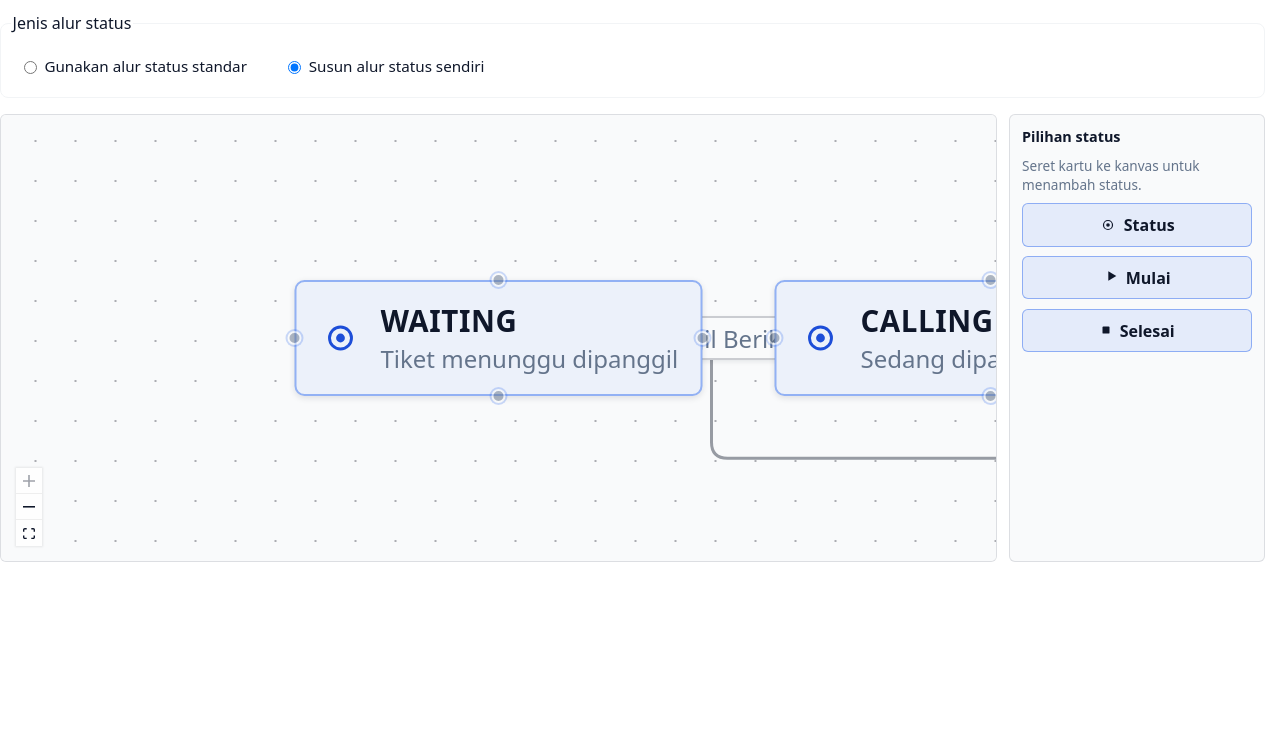
Scenario: StateMachineWorkflow (visual React Flow builder) › the panel back button clears selection and returns to the node picker
The width and height of the screenshot is (1280, 732).
Click the element showing "CALLING Sedang dipanggil ke counter": {"x": 991, "y": 338} x1=774 y1=280 x2=1208 y2=397
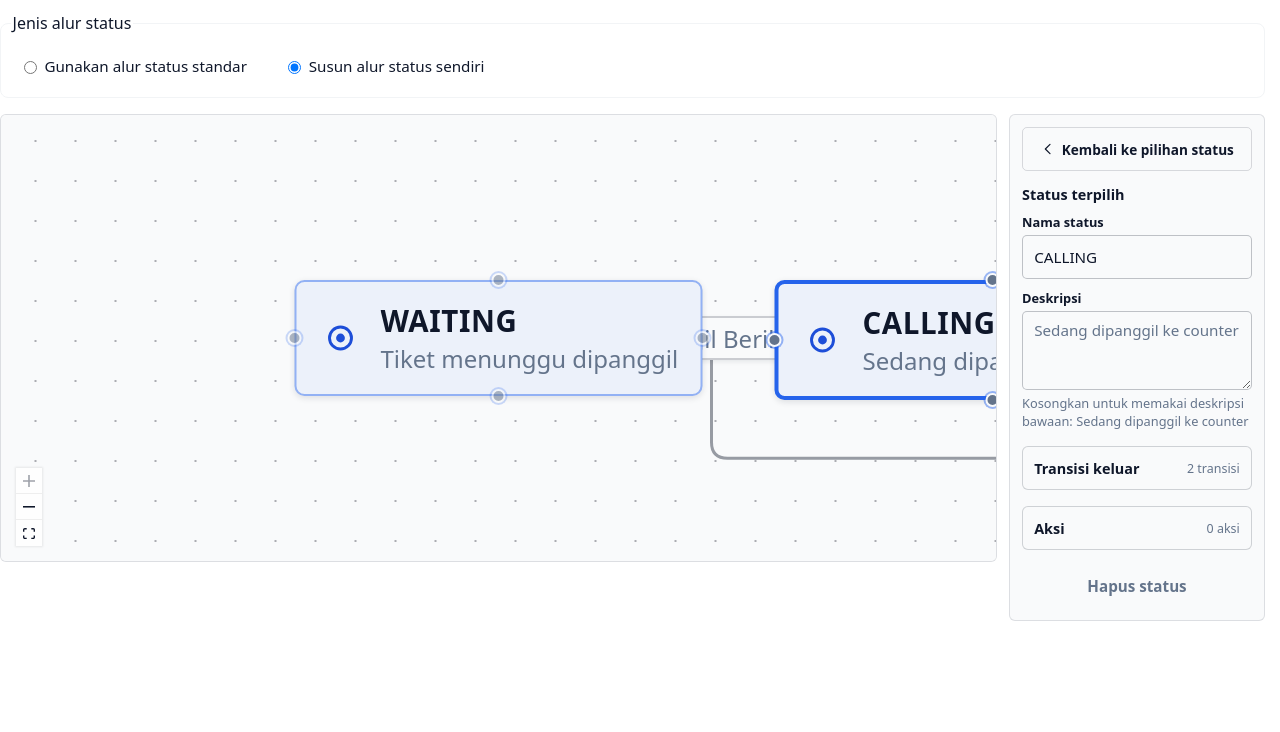
Now the element with test id "sm-properties" is shown, box x1=1009 y1=114 x2=1265 y2=621
Now the element with test id "sm-palette" is gone
Click the button with test id "sm-panel-back": {"x": 1137, "y": 149} x1=1022 y1=127 x2=1252 y2=171
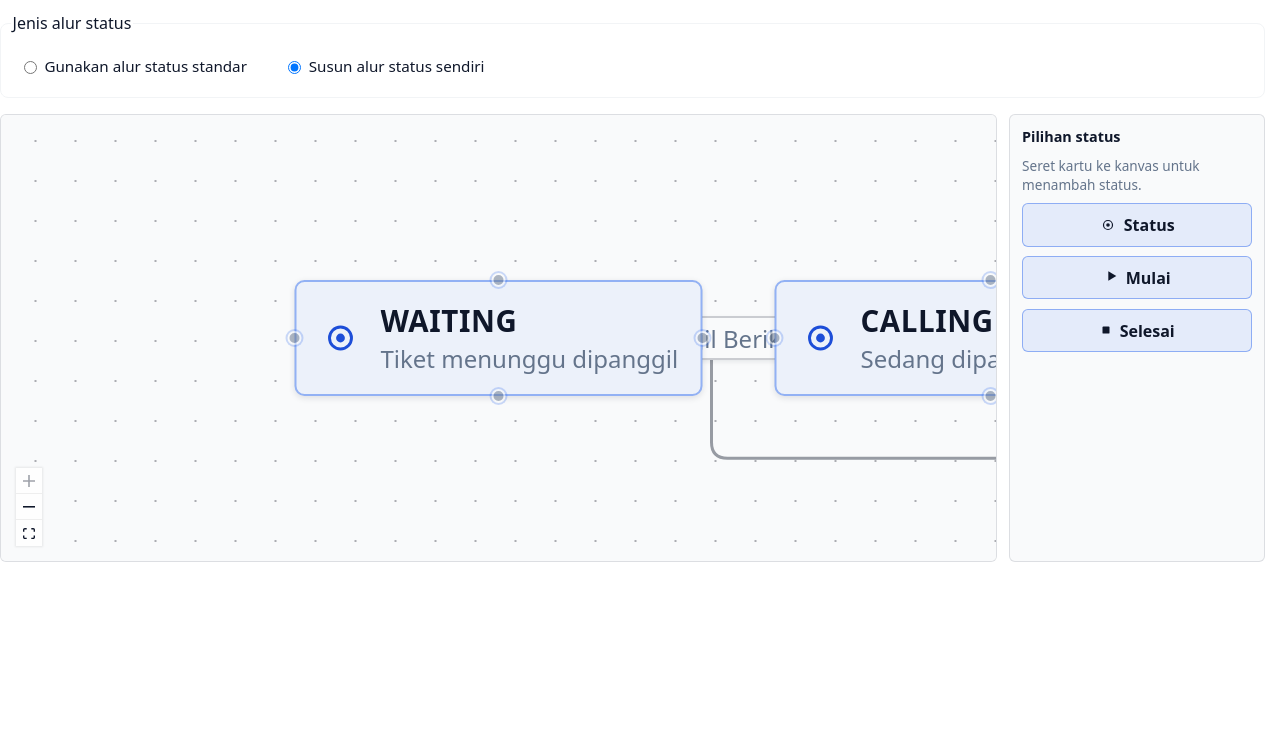
Now the element with test id "sm-palette" is shown, box x1=1009 y1=114 x2=1265 y2=562
